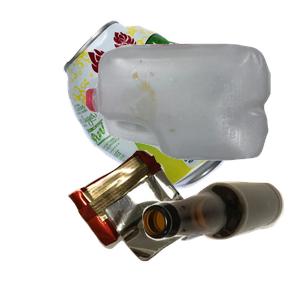glass: (140, 179, 300, 300)
metal: (60, 18, 300, 198)
plastic: (83, 41, 300, 194)
trash: (65, 148, 258, 300)
